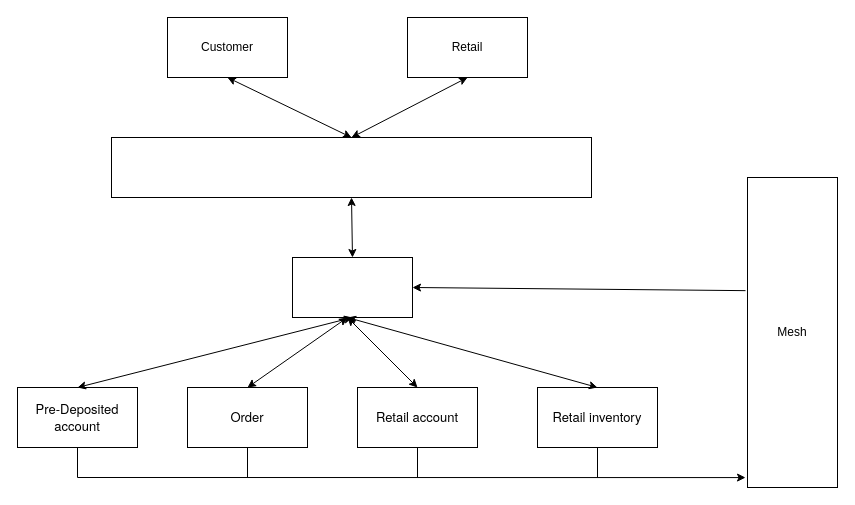
This 855x505 diagram has some shape labels left out. Here are the shapes that lost their labels. From the top down, the box of each, then its label:
(110, 136, 592, 198): Business Rules
(292, 256, 412, 318): Gateway
